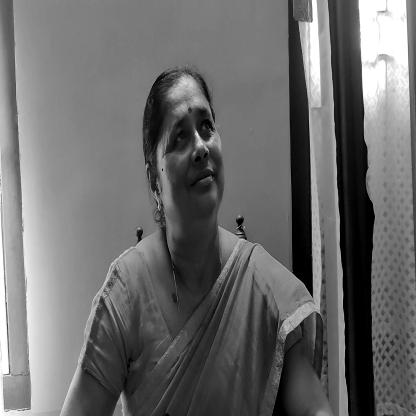Distracted: (152, 74, 226, 238)
